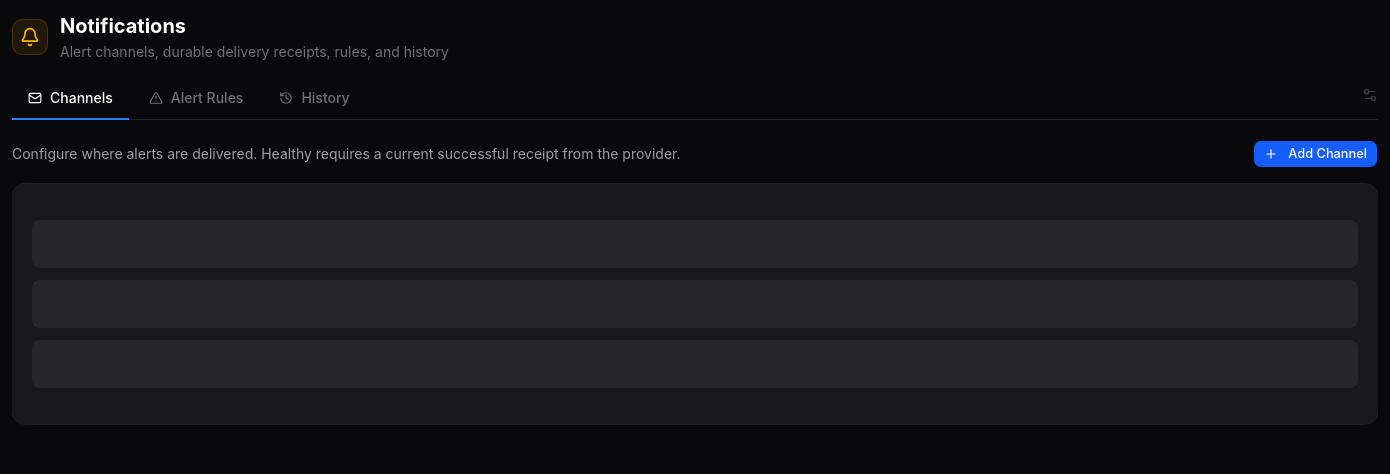
it: notification inventory failures › keeps a history failure distinct from a genuine empty history
Click the button "History". click: (315, 99)
box: [263,78,366,120]
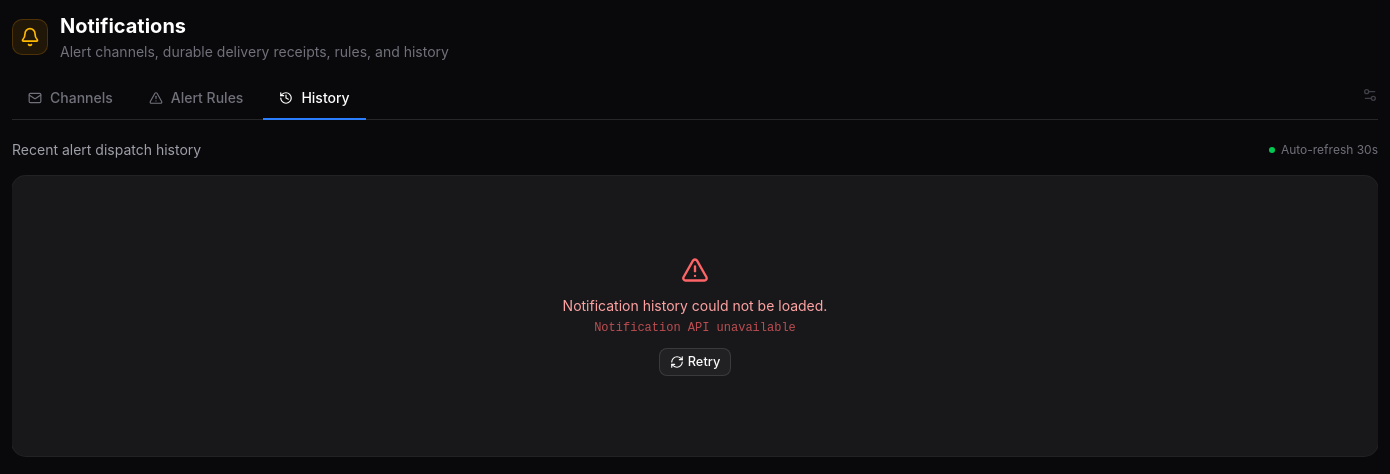
Result: the text "Notification history could not be loaded." is shown at [563,296,827,316]
